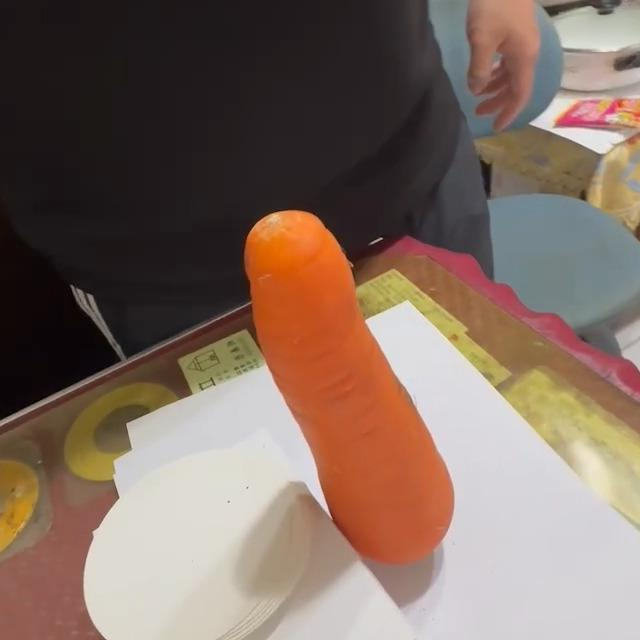carrot: (242, 210, 458, 568)
